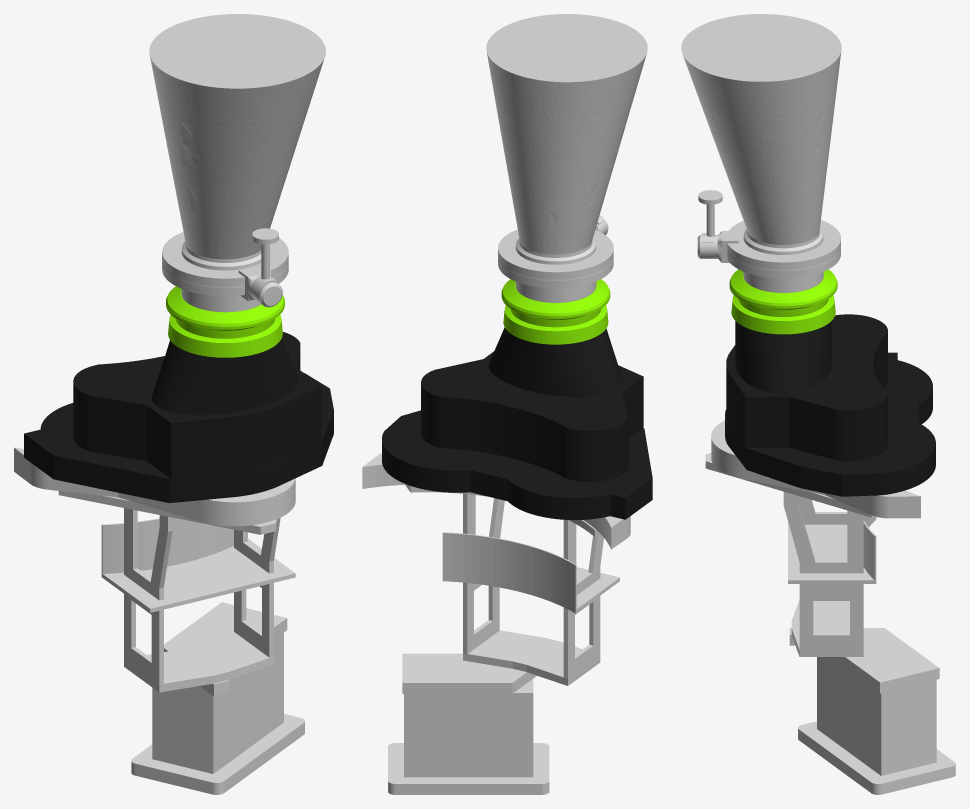
Rendered from estacion_dosificadora.glb.
3 renders of one model, left to right at view 1: azimuth 30°, elevation 25°; view 2: azimuth 150°, elevation 25°; view 3: azimuth 270°, elevation 25°, orthographic. The views are drawn at different scales.
Parts seen in each view (by area): view 1: Asset3DLoader.sceneRoot; view 2: Asset3DLoader.sceneRoot; view 3: Asset3DLoader.sceneRoot.
Boxes of the visible parts, x1=… form: Asset3DLoader.sceneRoot: x1=14, y1=14, x2=333, y2=794; Asset3DLoader.sceneRoot: x1=362, y1=14, x2=652, y2=794; Asset3DLoader.sceneRoot: x1=681, y1=14, x2=955, y2=794.
Size of the model in its own units: 360 by 948 by 342.
